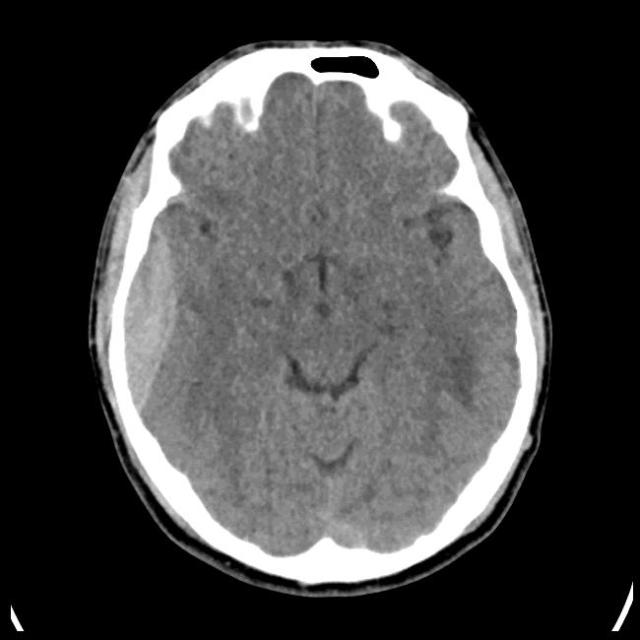lesion: (92, 40, 552, 590)
